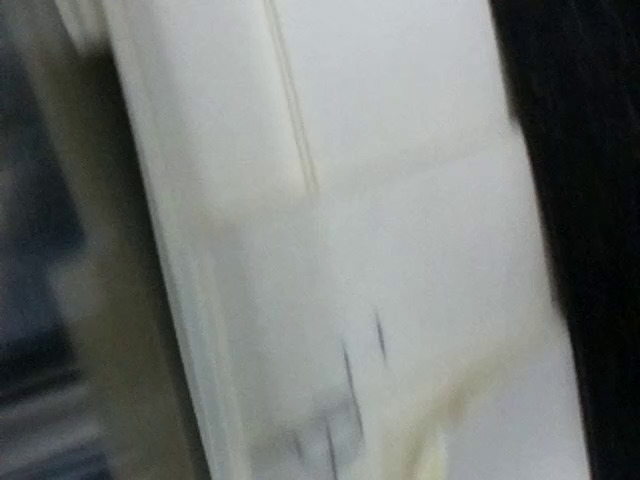not_sure: (249, 339, 378, 480)
